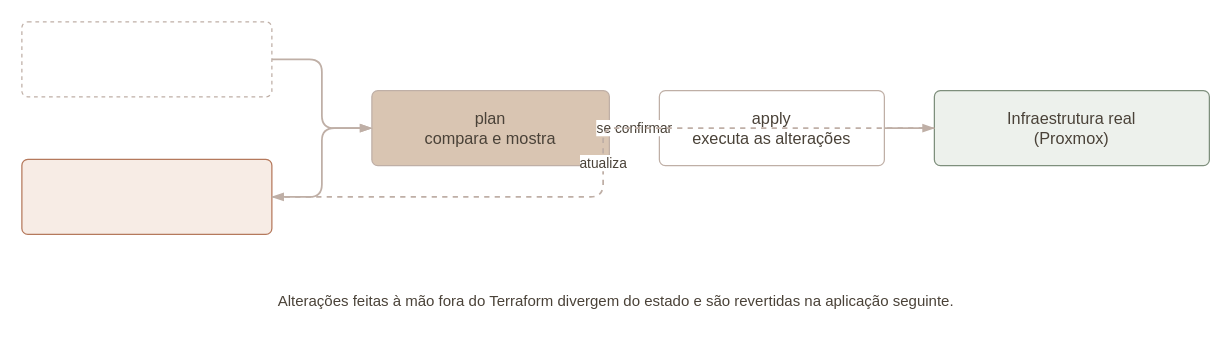
The diagram is 1231 pixels wide and 341 high, and some of its shapes have lost their labels. The centre of each missing label's shape, as x and y in pixels:
Código .tf (estado desejado): the point at 146,59
terraform.tfstate (o que já foi criado): the point at 146,196
